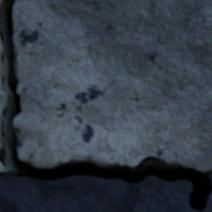broken_brick: (13, 0, 211, 172), (0, 39, 7, 151), (0, 154, 8, 173), (0, 0, 5, 12)
crack: (0, 0, 211, 211)
